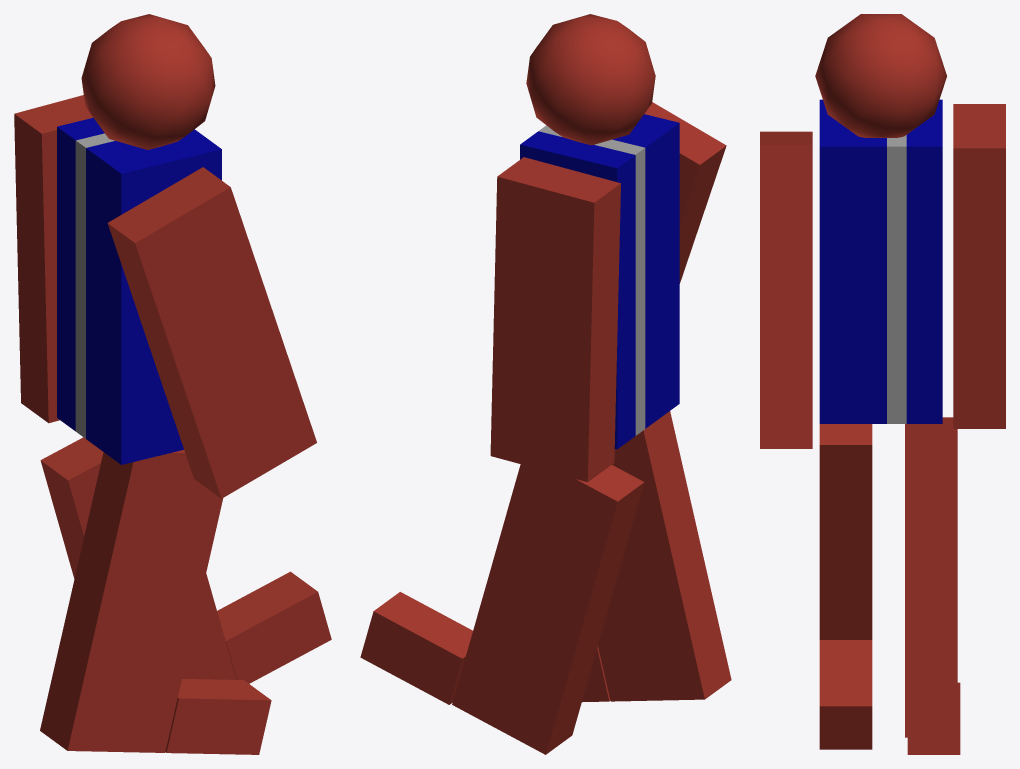
File: player_000048.obj
3 views of the same model, side by side, from view 1: azimuth 30°, elevation 25°; view 2: azimuth 150°, elevation 25°; view 3: azimuth 270°, elevation 25° (orthographic). The views are drawn at different scales.
Parts seen in each view (by area): view 1: Cube.005, Cube.001, Cube, Icosphere, Cube.006, Cube.004, Cube.002, Cube.003; view 2: Cube.006, Cube.002, Cube.001, Cube, Icosphere, Cube.004, Cube.005, Cube.003; view 3: Cube, Cube.006, Cube.005, Cube.002, Icosphere, Cube.001, Cube.003, Cube.004.
Boxes of the visible parts, x1,y1,x2,y2 form: Cube.005: (107, 167, 316, 498); Cube.001: (40, 450, 223, 752); Cube: (57, 117, 221, 464); Icosphere: (81, 14, 215, 149); Cube.006: (14, 95, 92, 423); Cube.004: (217, 571, 331, 683); Cube.002: (40, 437, 236, 679); Cube.003: (165, 679, 271, 754); Cube.006: (490, 157, 620, 482); Cube.002: (452, 464, 644, 754); Cube.001: (598, 411, 731, 701); Cube: (520, 114, 679, 449); Icosphere: (526, 14, 655, 145); Cube.004: (360, 592, 472, 704); Cube.005: (644, 102, 726, 283); Cube.003: (582, 646, 610, 702); Cube: (819, 99, 942, 423); Cube.006: (953, 104, 1005, 428); Cube.005: (760, 131, 812, 448); Cube.002: (905, 417, 957, 737); Icosphere: (815, 14, 946, 137); Cube.001: (819, 424, 872, 639); Cube.003: (819, 640, 872, 749); Cube.004: (907, 682, 960, 754).
Size of the model in its own units: 1.27 by 2.87 by 0.9137.
